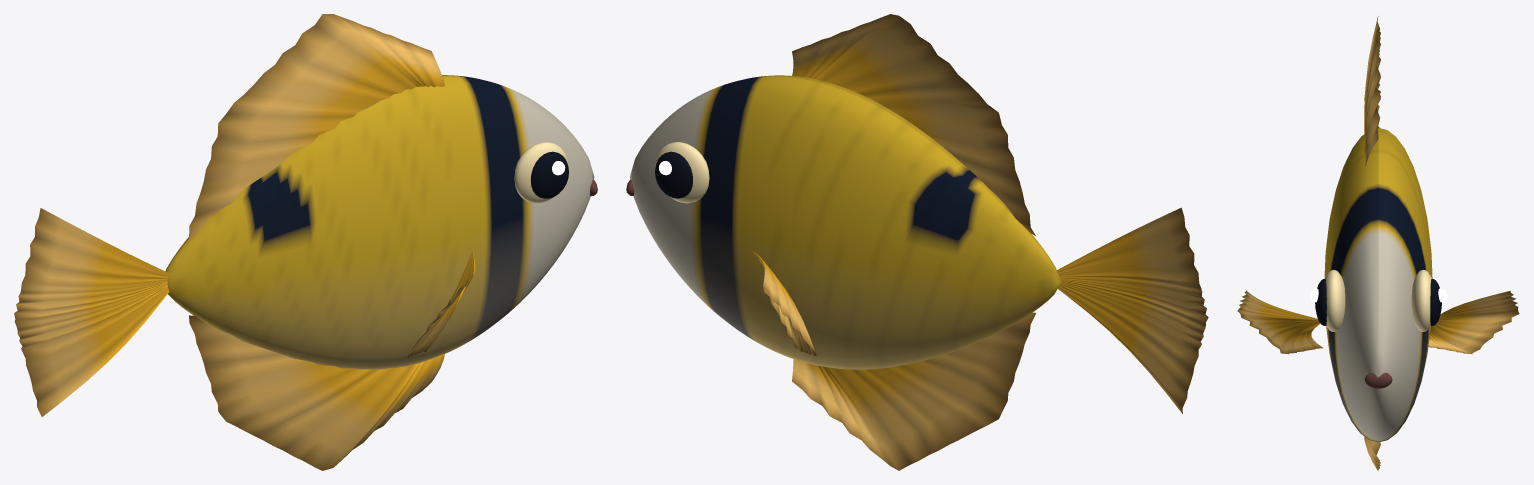
Rendered from butterfly.glb.
3 renders of one model, left to right at view 1: azimuth 30°, elevation 25°; view 2: azimuth 150°, elevation 25°; view 3: azimuth 270°, elevation 25°, orthographic. The views are drawn at different scales.
Visible parts, largest first — view 1: Body, FinDorsalMembrane, TailMembrane, FinVentralMembrane, EyeL, FinPectoralLMembrane; view 2: Body, FinVentralMembrane, FinDorsalMembrane, TailMembrane, EyeR, FinPectoralRMembrane; view 3: Body, FinPectoralRMembrane, FinPectoralLMembrane, EyeR, EyeL, FinDorsalMembrane, Mouth, FinVentralMembrane.
Part boxes in pixels (x1,y1,x2,y2): Body: [165, 75, 594, 369]; FinDorsalMembrane: [189, 14, 444, 238]; TailMembrane: [14, 208, 169, 416]; FinVentralMembrane: [189, 315, 444, 470]; EyeL: [514, 142, 568, 203]; FinPectoralLMembrane: [405, 250, 475, 357]; Body: [630, 75, 1060, 369]; FinVentralMembrane: [792, 312, 1036, 470]; FinDorsalMembrane: [792, 14, 1035, 235]; TailMembrane: [1057, 207, 1208, 413]; EyeR: [655, 142, 709, 203]; FinPectoralRMembrane: [752, 250, 816, 356]; Body: [1324, 128, 1432, 442]; FinPectoralRMembrane: [1428, 290, 1519, 354]; FinPectoralLMembrane: [1237, 290, 1322, 354]; EyeR: [1411, 269, 1447, 331]; EyeL: [1309, 270, 1345, 331]; FinDorsalMembrane: [1364, 27, 1380, 171]; Mouth: [1364, 372, 1392, 388]; FinVentralMembrane: [1364, 436, 1380, 470].
Bounding box in the file's own units: 2.21 × 1.66 × 0.9662.
